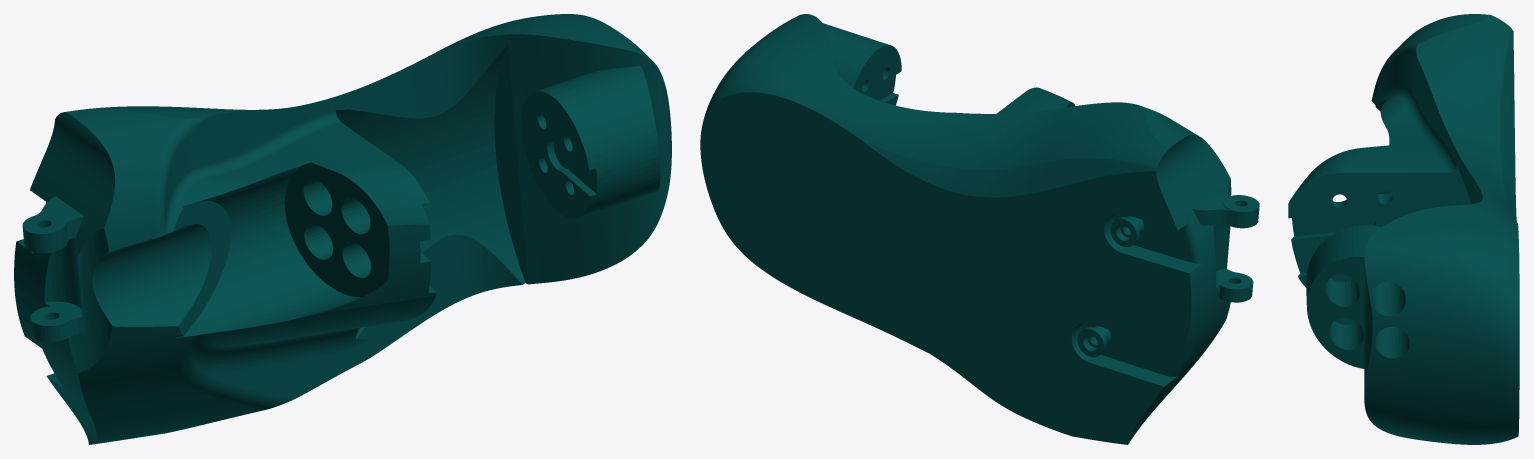
File: leg_left_ankle_roll_visuals.obj
The picture shows the model from 3 angles, left to right: view 1: azimuth 30°, elevation 25°; view 2: azimuth 150°, elevation 25°; view 3: azimuth 270°, elevation 25°; orthographic projection. The views are drawn at different scales.
Size of the model in its own units: 0.1384 by 0.0771 by 0.0503.
